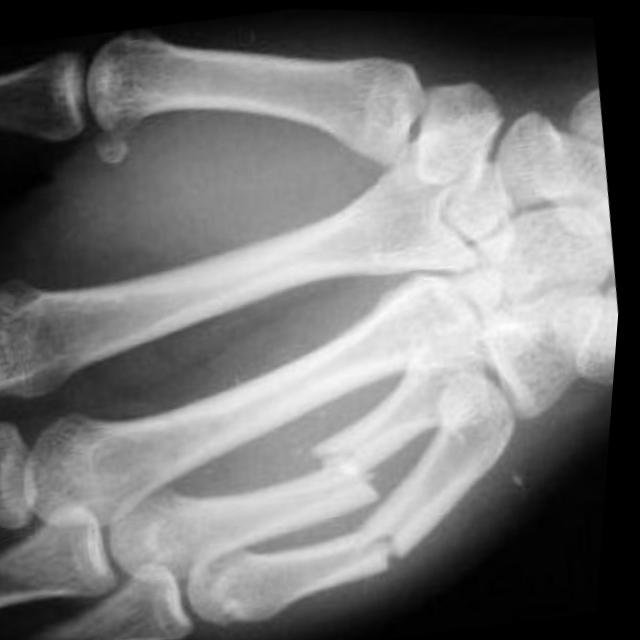fracture: (306, 426, 412, 519), (352, 512, 439, 587)
